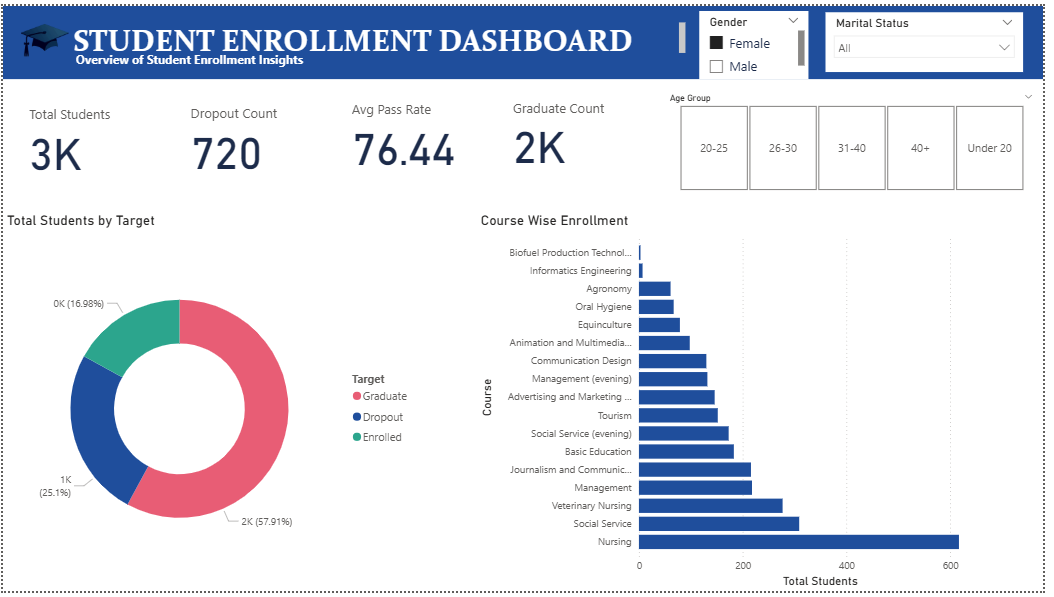

What the dashboard file says about the page in this screenshot:
{"tool":"powerbi","page":{"name":"overview","canvas":[1280,720],"ordinal":0},"visuals":[{"type":"shape","box":[0,0,1280.4,90],"z":0},{"type":"textbox","box":[81.2,15,763.8,51.2],"z":1000},{"type":"textbox","box":[85,51,308.7,30.1],"z":2000},{"type":"cardVisual","fields":{"Data":["Student Data.Graduate Count"]},"box":[610,95,198.3,128.3],"z":3000},{"type":"cardVisual","fields":{"Data":["Student Data.Dropout Count"]},"box":[213.3,98.3,198.3,135],"z":4000},{"type":"cardVisual","fields":{"Data":["Student Data.Avg Pass Rate"]},"box":[411.7,98.3,198.3,123.3],"z":5000},{"type":"cardVisual","fields":{"Data":["Student Data.Total Students"]},"box":[15,101.7,198.3,131.7],"z":6000},{"type":"donutChart","fields":{"Category":["Student Data.Target"],"Y":["Student Data.Total Students"]},"box":[0,253.3,511.7,465],"z":7000},{"type":"clusteredBarChart","title":"Course Wise Enrollment","fields":{"Category":["Student Data.Course"],"Y":["Student Data.Total Students"]},"box":[583.3,253.3,661.7,466.7],"z":8000},{"type":"image","box":[0,0,103.5,80.9],"z":9000},{"type":"slicer","fields":{"Values":["Student Data.Age Group"]},"box":[808.3,93.3,471.7,131.7],"z":12000},{"type":"slicer","fields":{"Values":["Student Data.Gender"]},"box":[856.7,8.3,143.3,80],"z":13000},{"type":"slicer","fields":{"Values":["Student Data.Marital Status"]},"box":[1012.7,7.5,242.8,73.4],"z":14000}]}

Visuals, with their boxes in screenshot pixels (x1, y1, x2, y2), scaled from the page's 1280x720 canvas onto the 1054x597 screenshot:
shape: 0,0,1053,75
textbox: 67,12,696,55
textbox: 70,42,324,67
cardVisual - Student Data.Graduate Count: 502,79,666,185
cardVisual - Student Data.Dropout Count: 176,82,339,193
cardVisual - Student Data.Avg Pass Rate: 339,82,502,184
cardVisual - Student Data.Total Students: 12,84,176,194
donutChart - Student Data.Target x Student Data.Total Students: 0,210,421,596
"Course Wise Enrollment" clusteredBarChart: 480,210,1025,596
image: 0,0,85,67
slicer - Student Data.Age Group: 666,77,1053,187
slicer - Student Data.Gender: 705,7,823,73
slicer - Student Data.Marital Status: 834,6,1034,67
